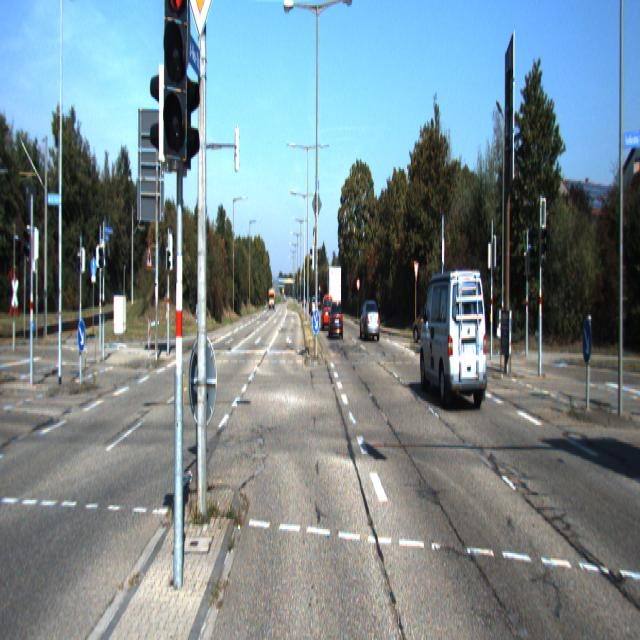Car: (419, 261, 489, 413), (412, 298, 446, 344), (359, 300, 380, 342), (327, 264, 341, 316), (328, 300, 344, 340)
